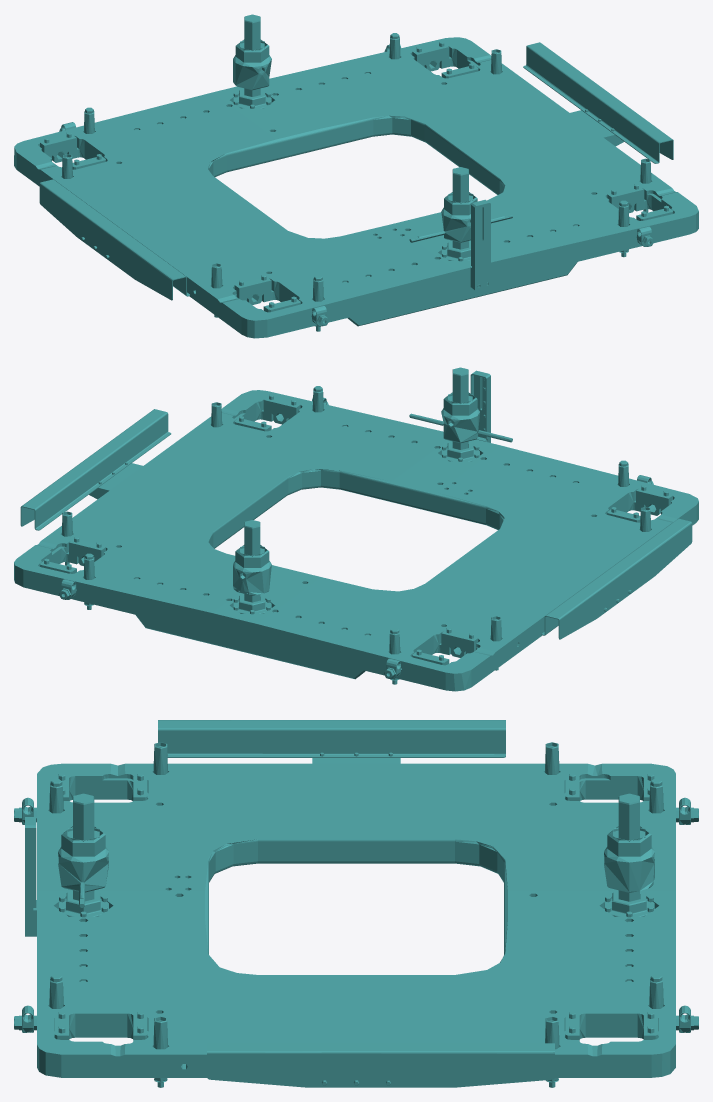
The picture shows the model from 3 angles, top to bottom: view 1: azimuth 30°, elevation 25°; view 2: azimuth 150°, elevation 25°; view 3: azimuth 270°, elevation 25°; orthographic projection. The views are drawn at different scales.
Visible parts, largest first — view 1: node0; view 2: node0; view 3: node0.
Part boxes in pixels (bbox=[...]): node0: bbox=[14, 14, 698, 338]; node0: bbox=[14, 367, 698, 691]; node0: bbox=[14, 720, 698, 1087].
Size of the model in its own units: 1.62 by 1.39 by 0.3785.
